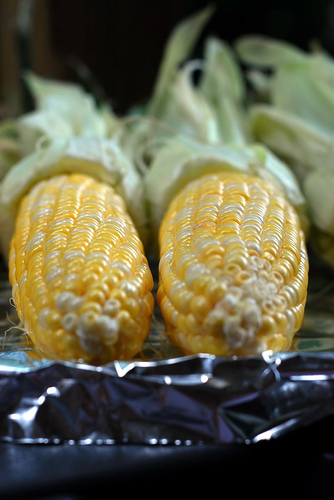corn: (7, 172, 155, 366), (156, 170, 308, 358)
